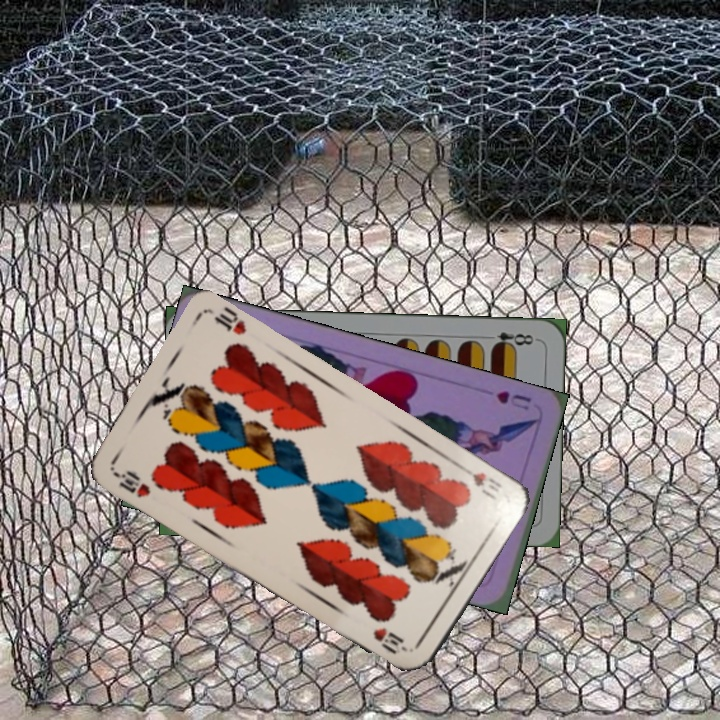E8: (488, 328, 539, 351)
H10: (456, 460, 505, 503), (110, 466, 154, 501)
HU: (492, 386, 534, 413)
